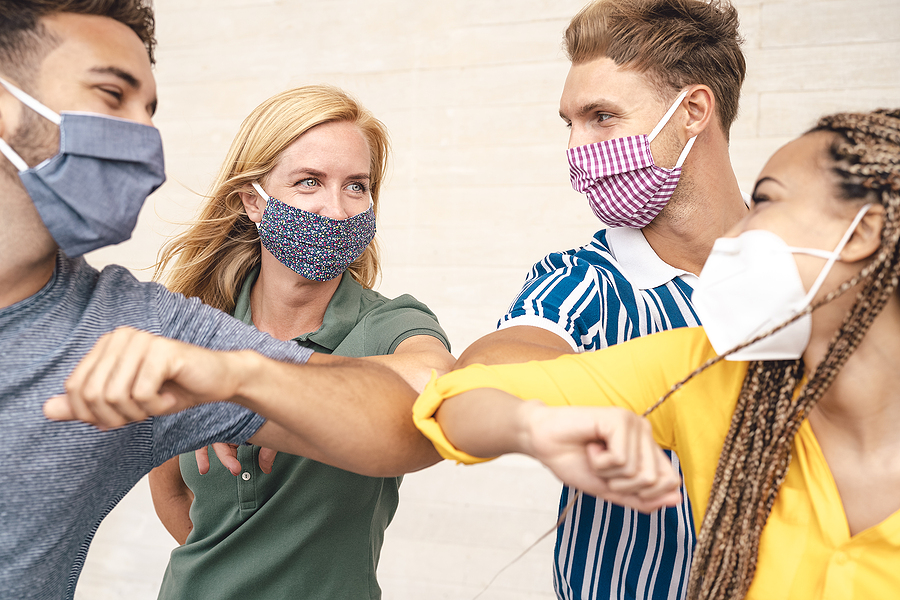with_mask: (47, 16, 163, 246), (713, 179, 843, 345), (561, 72, 692, 224), (272, 130, 368, 264)
